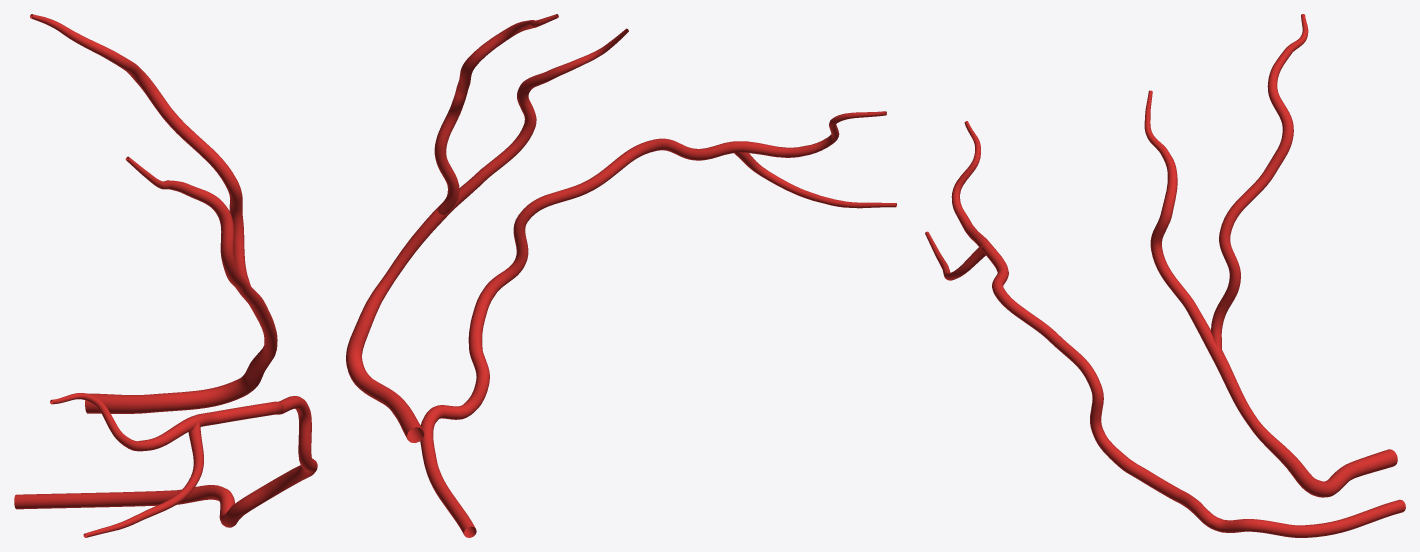
File: circulatorio-prefrontal-artery-l.glb
3 views of the same model, side by side, from view 1: azimuth 30°, elevation 25°; view 2: azimuth 150°, elevation 25°; view 3: azimuth 270°, elevation 25° (orthographic). The views are drawn at different scales.
Visible parts, largest first — view 1: Prefrontal artery.l, Lateral frontobasal artery.l; view 2: Lateral frontobasal artery.l, Prefrontal artery.l; view 3: Prefrontal artery.l, Lateral frontobasal artery.l.
Boxes of the visible parts, x1,y1,x2,y2 form: Prefrontal artery.l: [30, 14, 277, 413]; Lateral frontobasal artery.l: [14, 393, 317, 537]; Lateral frontobasal artery.l: [420, 111, 896, 537]; Prefrontal artery.l: [346, 14, 628, 442]; Prefrontal artery.l: [1144, 14, 1397, 497]; Lateral frontobasal artery.l: [925, 121, 1405, 537].
Size of the model in its own units: 0.0501 by 0.0652 by 0.0591.
